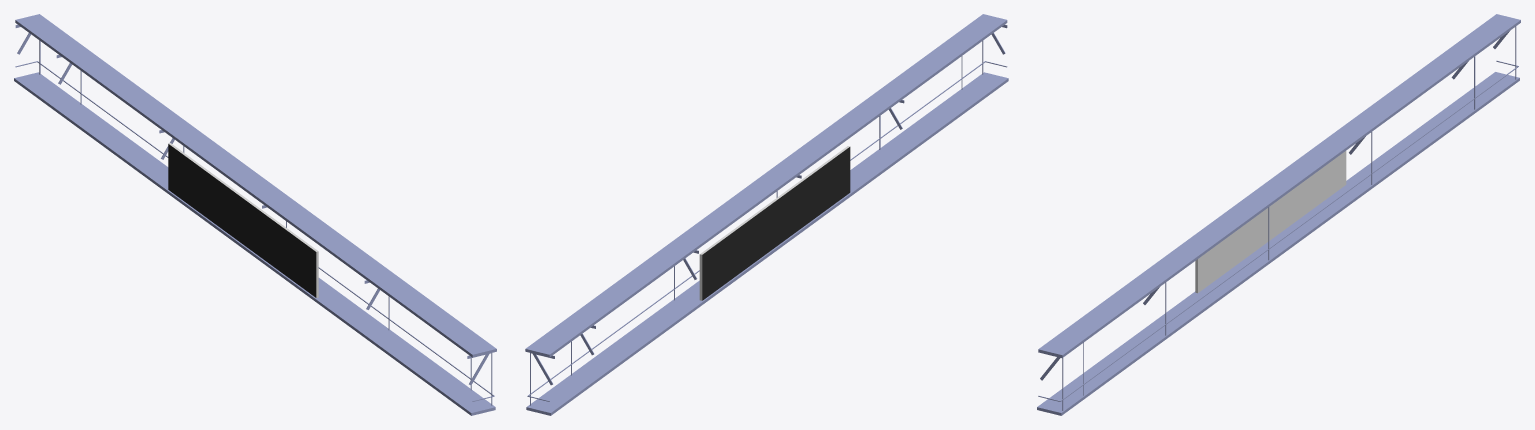
The model's file is whiteboard.fbx.
3 views of the same model, side by side, from view 1: azimuth 30°, elevation 25°; view 2: azimuth 150°, elevation 25°; view 3: azimuth 330°, elevation 25° (orthographic).
Visible parts, largest first — view 1: whiteboard; view 2: whiteboard; view 3: whiteboard.
Part boxes in pixels (bbox=[...]): whiteboard: bbox=[14, 14, 496, 415]; whiteboard: bbox=[525, 14, 1008, 415]; whiteboard: bbox=[1037, 14, 1520, 415].
Size of the model in its own units: 394 by 850 by 11580.
